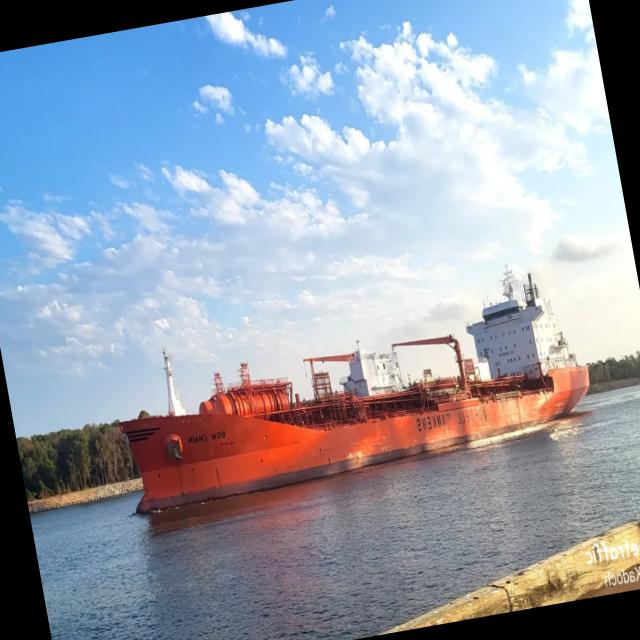Tanker: (120, 274, 589, 513)
